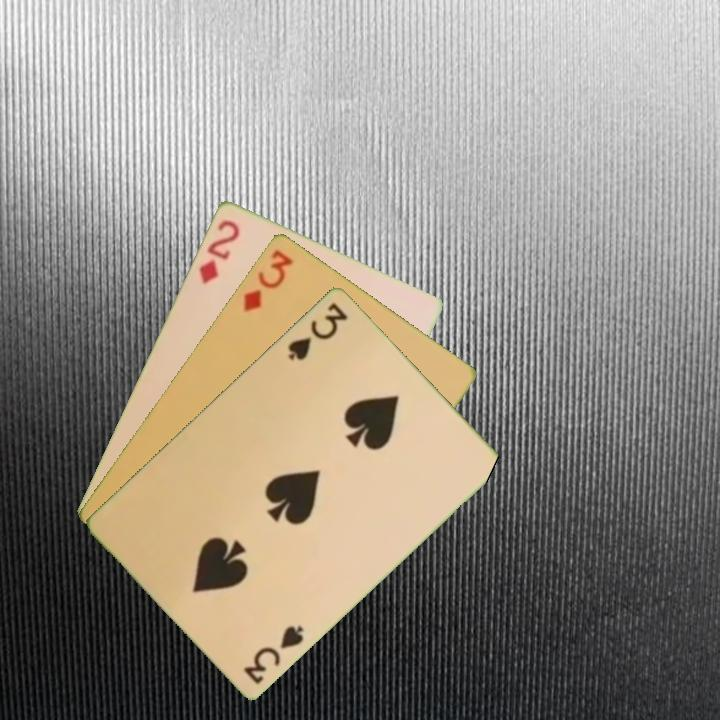2d: (195, 216, 243, 287)
3d: (239, 245, 296, 314)
3s: (239, 621, 307, 687), (284, 298, 351, 363)
